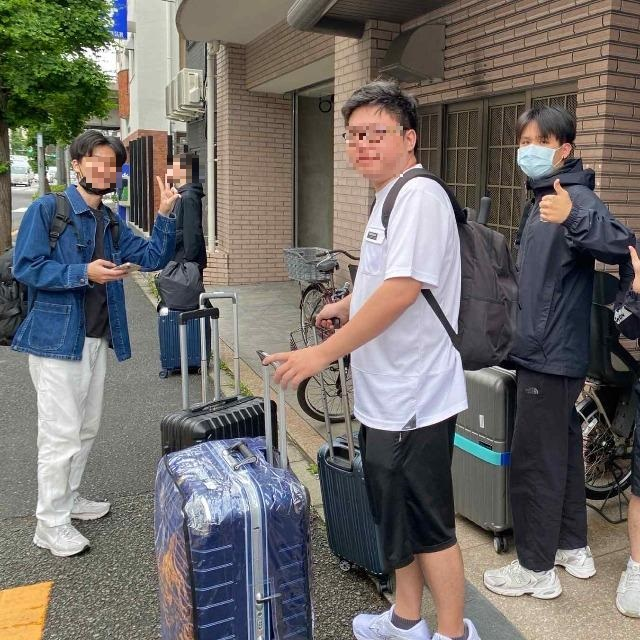NoHelmet: (340, 77, 420, 184), (510, 100, 577, 182), (68, 128, 131, 195)
NoVest: (346, 179, 474, 416), (19, 196, 134, 354)
